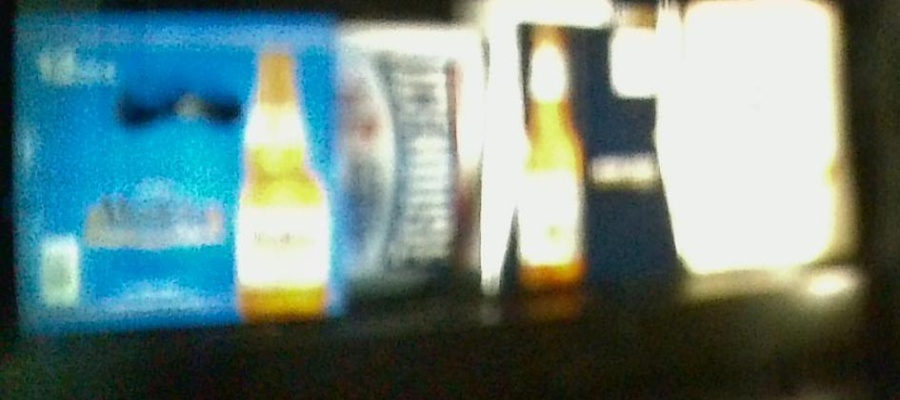bottle: (484, 1, 862, 296), (9, 8, 347, 322), (341, 21, 480, 291)
